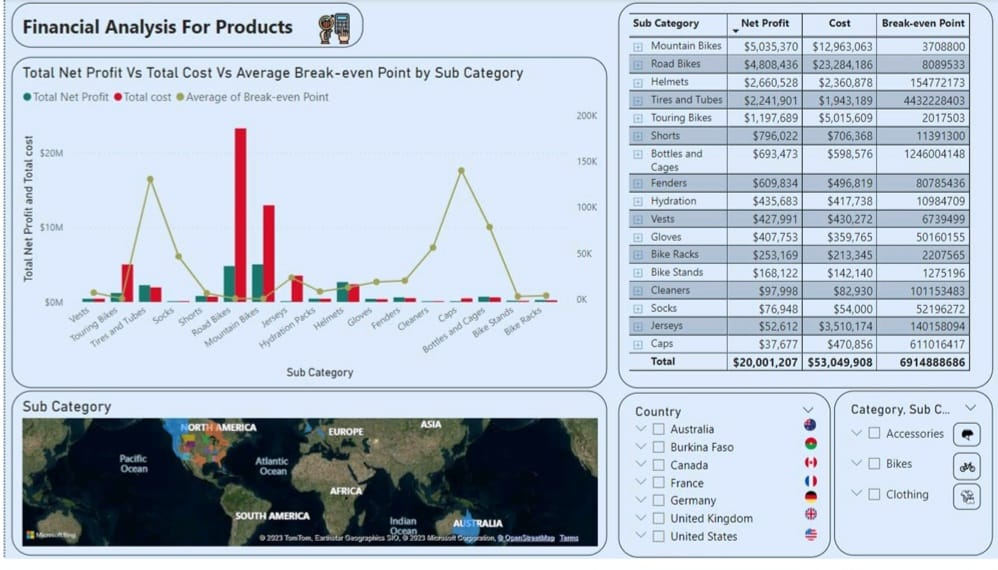

This screenshot's page, from the dashboard's own definition file:
{"tool":"powerbi","page":{"name":"Financial","canvas":[1280,720],"ordinal":2},"visuals":[{"type":"lineClusteredColumnComboChart","title":"Total Net Profit Vs Total Cost Vs Average Break-even Point by Sub Category","fields":{"Category":["Sales.Sub_Category"],"Y2":["Avg(Sales.Break-even Point)"],"Y":["Sum(Sales.Net Profit)","Sum(Sales.cost)"]},"box":[8.4,74.8,765.8,425.7],"z":0},{"type":"slicer","fields":{"Values":["Sales.Product_Category","Sales.Sub_Category","Sales.Product"]},"box":[1066.1,504.1,203.8,212.3],"z":1000},{"type":"slicer","fields":{"Values":["Sales.Corrected Country","Sales.State"]},"box":[788.7,506.5,272.6,212.3],"z":2000},{"type":"image","box":[1024.3,608,25,25],"z":3000},{"type":"image","box":[1024.3,628,25,25],"z":4000},{"type":"image","box":[1024.3,650,25,25],"z":5000},{"type":"image","box":[1024.3,677,25,25],"z":6000},{"type":"image","box":[1024.3,584,25,25],"z":7000},{"type":"image","box":[1023,536,25,25],"z":8000},{"type":"image","box":[1219.3,583.7,35,35],"z":9000},{"type":"image","box":[1219.3,623.5,35,33.8],"z":10000},{"type":"image","box":[1219.3,545.1,35,30.2],"z":11000},{"type":"textbox","box":[8.4,5,452,57.9],"z":12000},{"type":"image","box":[398,13.3,49.4,49.4],"z":13000},{"type":"image","box":[1024,560,25,25],"z":17000},{"type":"pivotTable","fields":{"Rows":["Sales.Sub_Category","Sales.Product"],"Values":["Sum(Sales.Net Profit)","Sum(Sales.cost)","Sum(Sales.Break-even Point)"]},"box":[788.7,4.8,481.2,495.7],"z":18000},{"type":"filledMap","title":" Sub Category","fields":{"Category":["Sales.State"],"Series":["Sales.Sub_Category"]},"box":[8.4,504.1,765.8,212.3],"z":19000}]}

Visuals, with their boxes in screenshot pixels (x1, y1, x2, y2), scaled from the page's 1280x720 canvas onto the 998x570 screenshot:
"Total Net Profit Vs Total Cost Vs Average Break-even Point by Sub Category" lineClusteredColumnComboChart: <bbox>7, 59, 604, 396</bbox>
slicer - Sales.Product_Category x Sales.Sub_Category: <bbox>831, 399, 990, 567</bbox>
slicer - Sales.Corrected Country x Sales.State: <bbox>615, 401, 827, 569</bbox>
image: <bbox>799, 481, 818, 501</bbox>
image: <bbox>799, 497, 818, 517</bbox>
image: <bbox>799, 515, 818, 534</bbox>
image: <bbox>799, 536, 818, 556</bbox>
image: <bbox>799, 462, 818, 482</bbox>
image: <bbox>798, 424, 817, 444</bbox>
image: <bbox>951, 462, 978, 490</bbox>
image: <bbox>951, 494, 978, 520</bbox>
image: <bbox>951, 432, 978, 455</bbox>
textbox: <bbox>7, 4, 359, 50</bbox>
image: <bbox>310, 11, 349, 50</bbox>
image: <bbox>798, 443, 818, 463</bbox>
pivotTable - Sales.Sub_Category x Sales.Product: <bbox>615, 4, 990, 396</bbox>
" Sub Category" filledMap: <bbox>7, 399, 604, 567</bbox>
